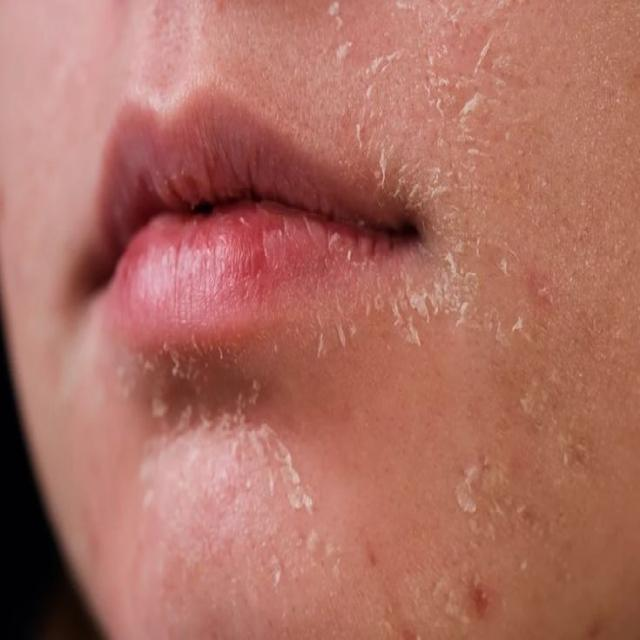Dry-Skin: (341, 74, 452, 190), (156, 434, 264, 540), (452, 448, 514, 532), (388, 271, 452, 343), (473, 64, 540, 130), (494, 262, 567, 314), (321, 21, 366, 64)
